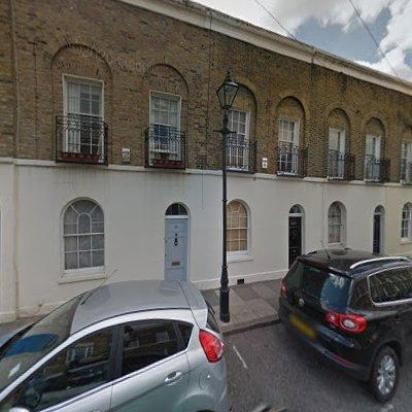stationary-car-onstreet: (0, 280, 230, 412), (276, 246, 412, 404)
